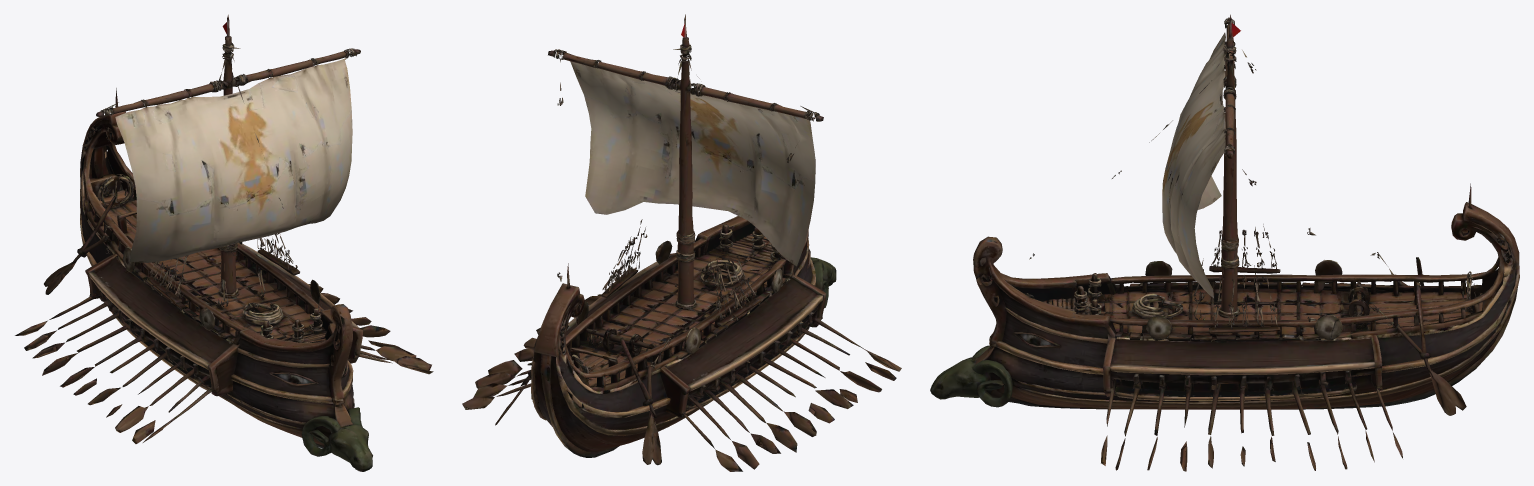
Rendered from trireme.glb.
3 views of the same model, side by side, from view 1: azimuth 30°, elevation 25°; view 2: azimuth 150°, elevation 25°; view 3: azimuth 270°, elevation 25° (orthographic). The views are drawn at different scales.
Visible parts, largest first — view 1: geometry_0; view 2: geometry_0; view 3: geometry_0.
Part boxes in pixels (x1=…): geometry_0: x1=15, y1=14, x2=433, y2=471; geometry_0: x1=462, y1=14, x2=901, y2=471; geometry_0: x1=930, y1=14, x2=1519, y2=471.
Size of the model in its own units: 0.6355 by 0.7373 by 0.9972.
Materials: 1 (1 with a texture image).
